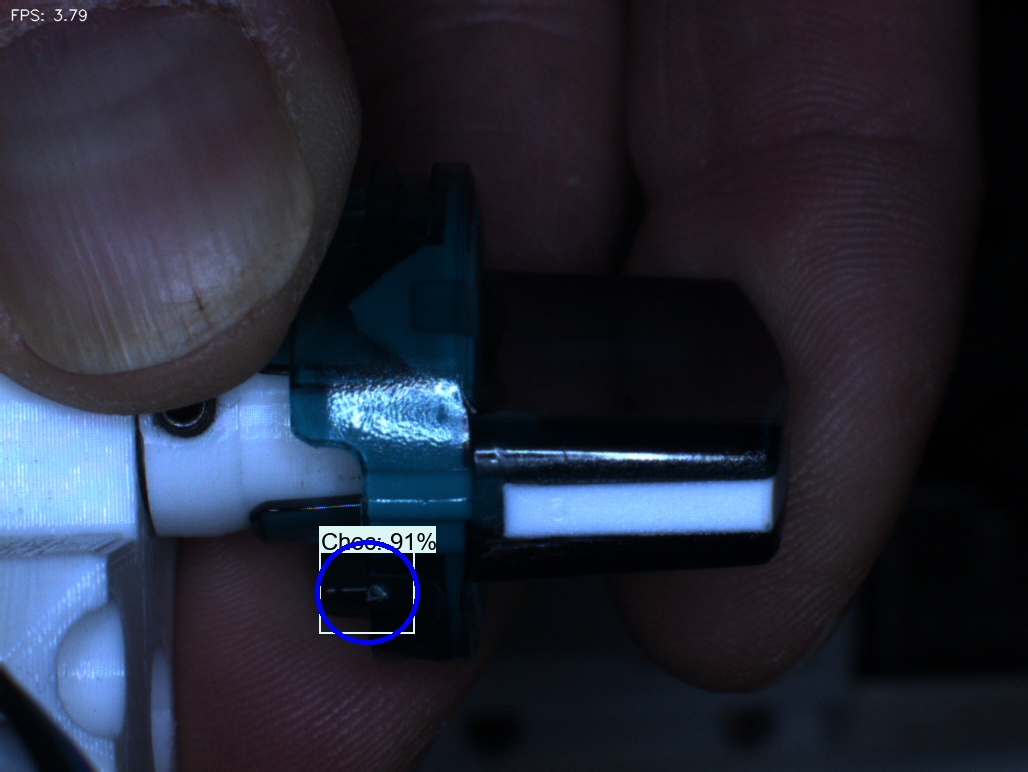DentOk: (323, 259, 400, 373)
